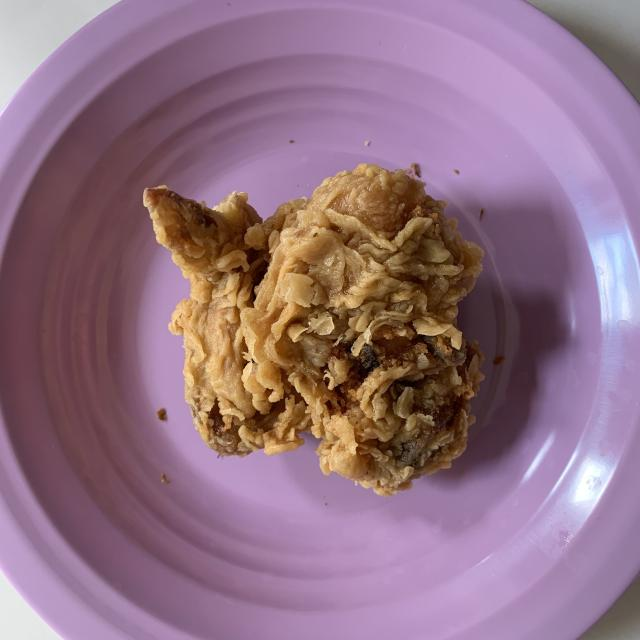Wet Waste: (144, 164, 486, 497)
